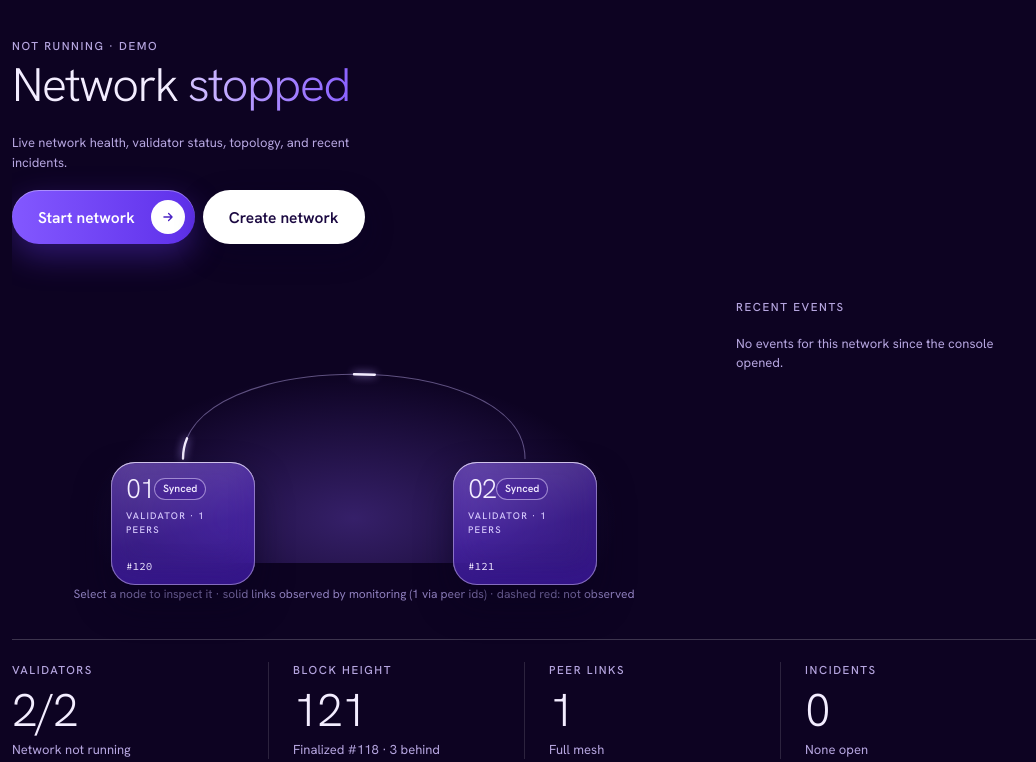
Test case: Overview › surfaces a failed start operation result
Click the button "Start network" at (103, 218), box [12,190,195,244]
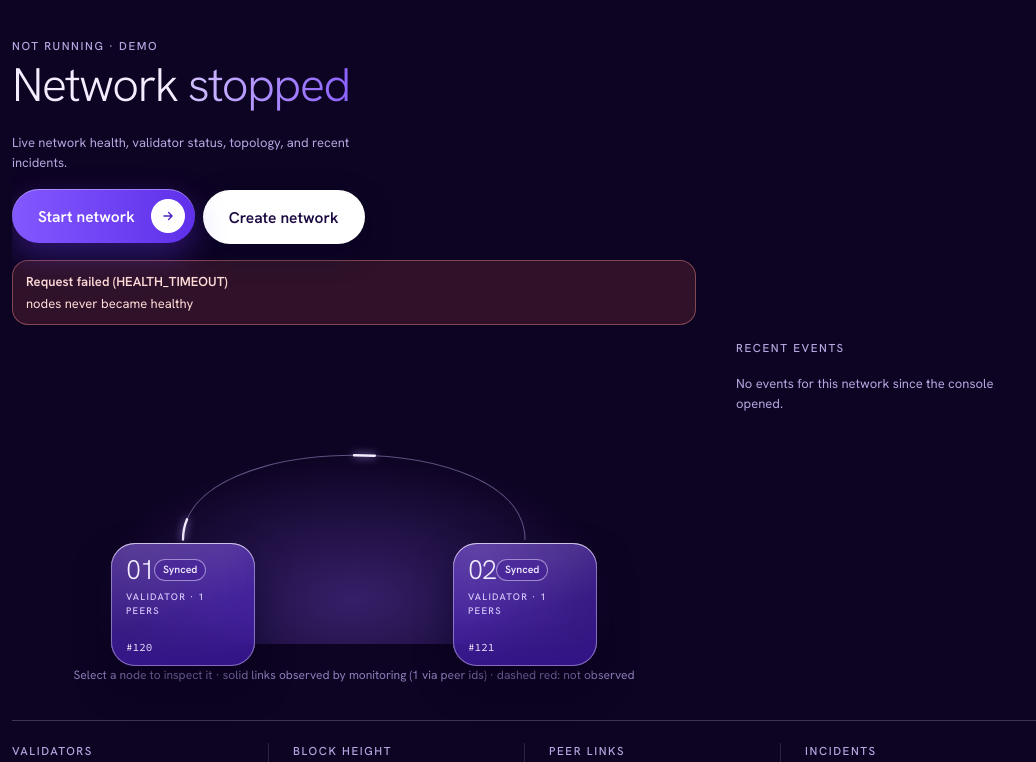
Expected: the message shows "nodes never became healthy", [26,295,193,312]
